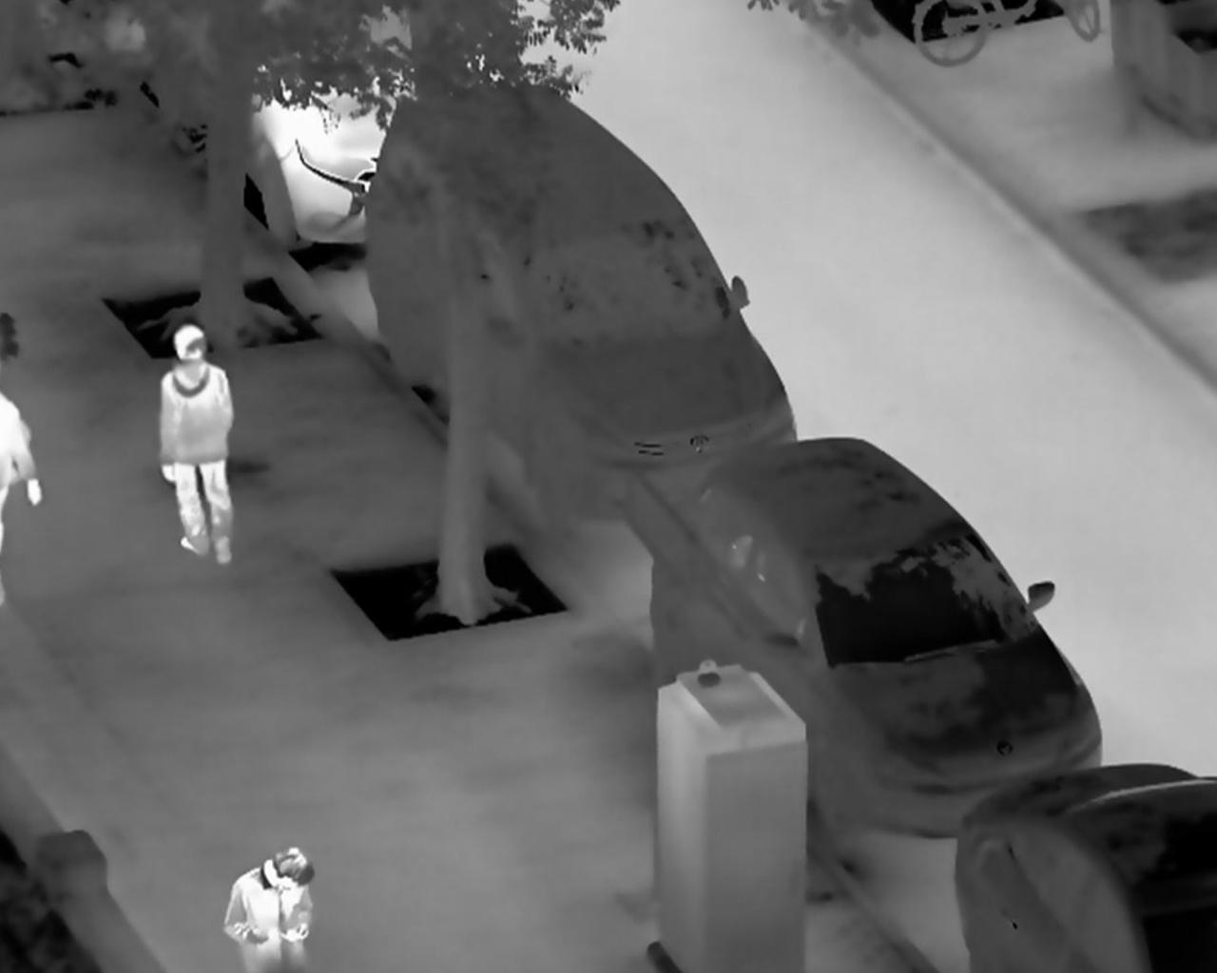person: (154, 320, 239, 567), (221, 847, 318, 973)
